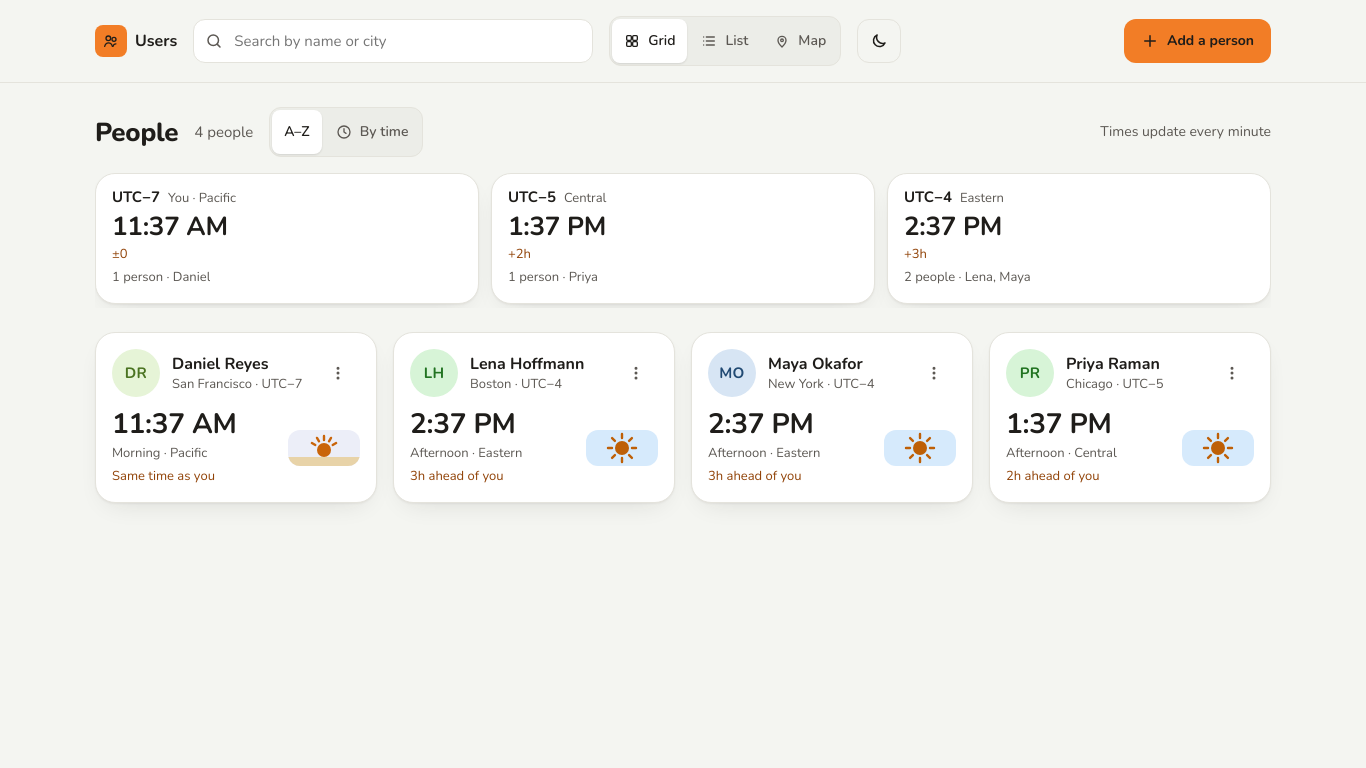
List view › switching to List shows a table with a row per person instead of the cards
expect the list named "People" is shown: met, box [95,332,1271,503]
What coordinates should you click on to do the following:
click the button "List"
I would click on:
 (725, 41)
Its box is [689,19,760,63].
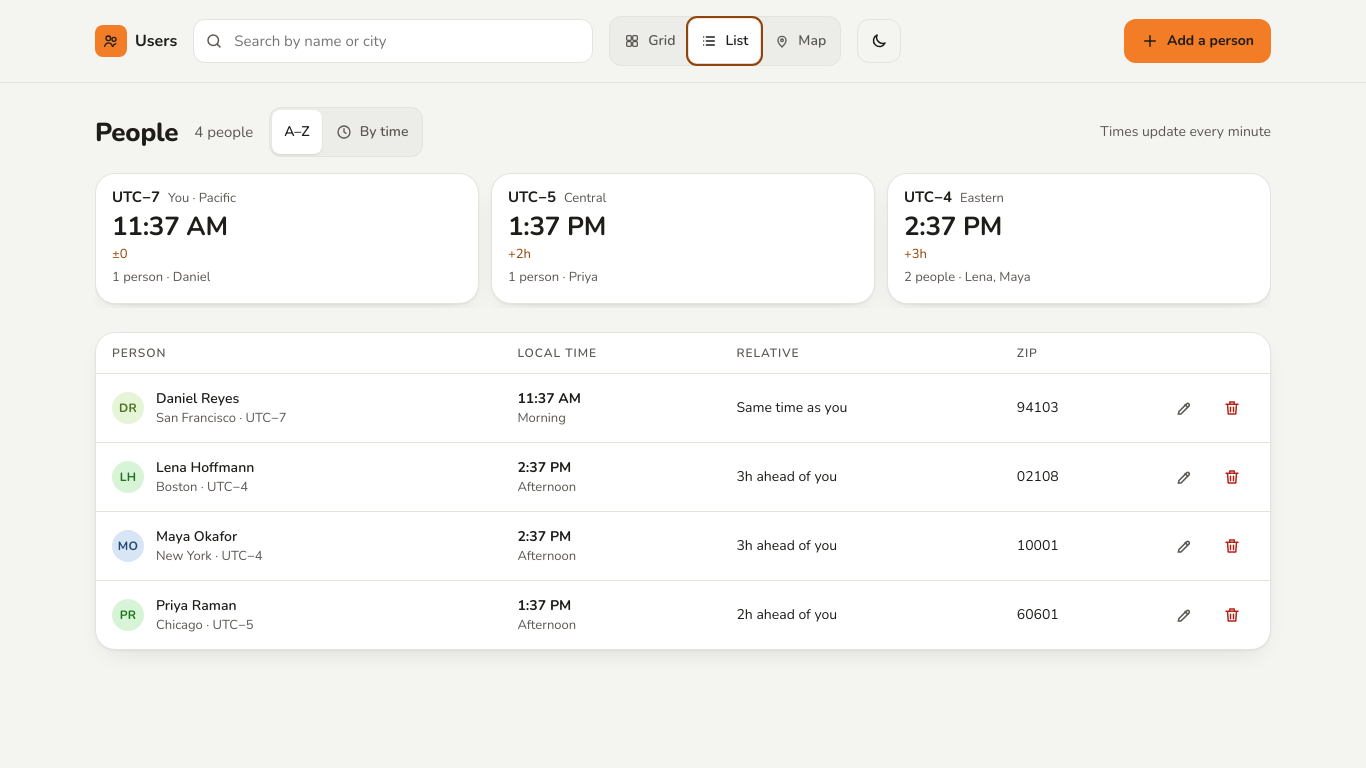
expect the text "3h ahead of you" in the row of "LH" is shown: met, box [736,467,837,486]
expect the column headings read "Person", "Local time", "Relative", "Zip", "Actions", in this order: met, box [96,333,502,374]; [502,333,720,374]; [720,333,1001,374]; [1001,333,1146,374]; [1146,333,1270,374]
expect the text "02108" is shown: met, box [1001,442,1146,512]
